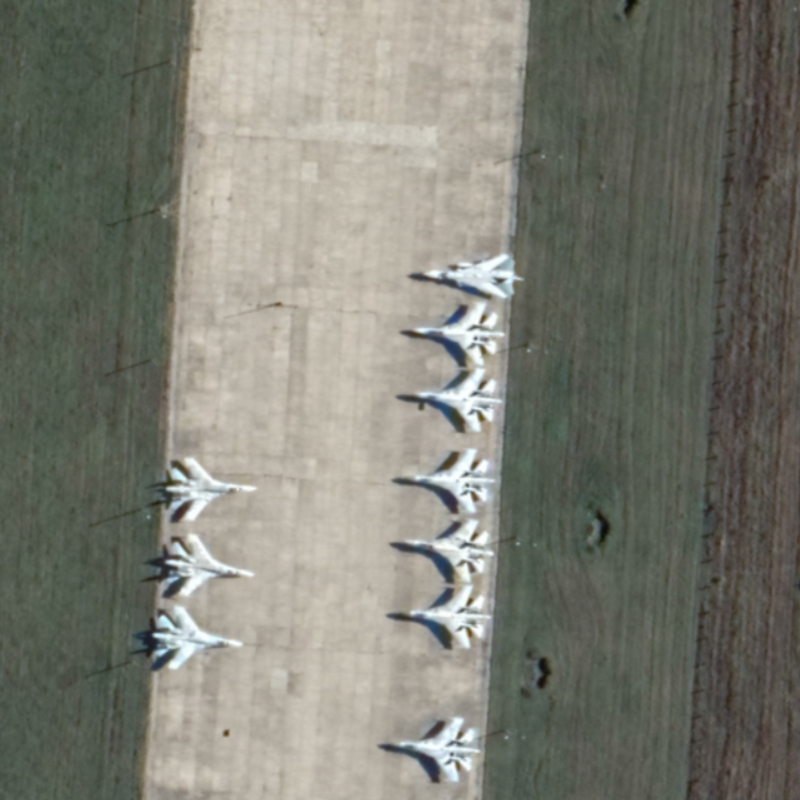A1: (400, 446, 498, 516), (409, 366, 505, 435), (150, 603, 245, 672), (164, 455, 260, 523), (398, 584, 493, 652), (402, 516, 497, 584), (410, 300, 507, 366), (392, 714, 482, 784), (163, 531, 256, 598)
A20: (419, 251, 526, 301)
